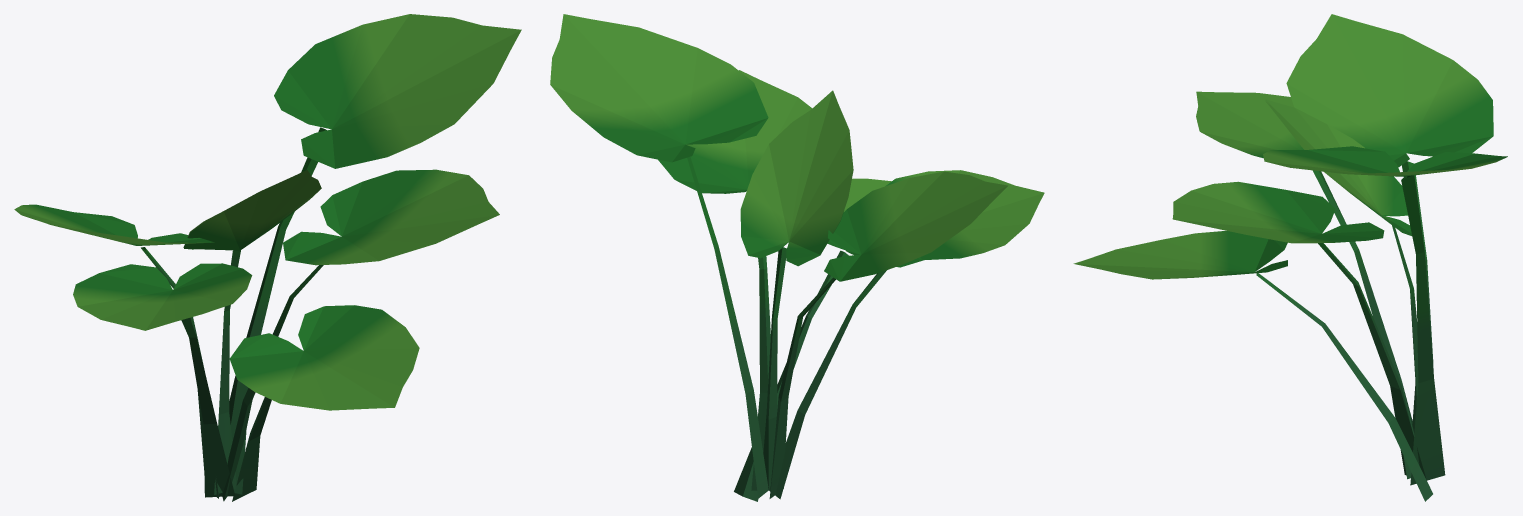
Rendered from um_scrub003.FBX.
3 views of the same model, side by side, from view 1: azimuth 30°, elevation 25°; view 2: azimuth 150°, elevation 25°; view 3: azimuth 270°, elevation 25° (orthographic). The views are drawn at different scales.
Parts seen in each view (by area): view 1: um_scrub003; view 2: um_scrub003; view 3: um_scrub003.
Part boxes in pixels (x1,y1,x2,y2): um_scrub003: (14,14,521,501); um_scrub003: (550,14,1044,501); um_scrub003: (1073,14,1507,501).
Size of the model in its own units: 1.51 by 1.33 by 1.18.
